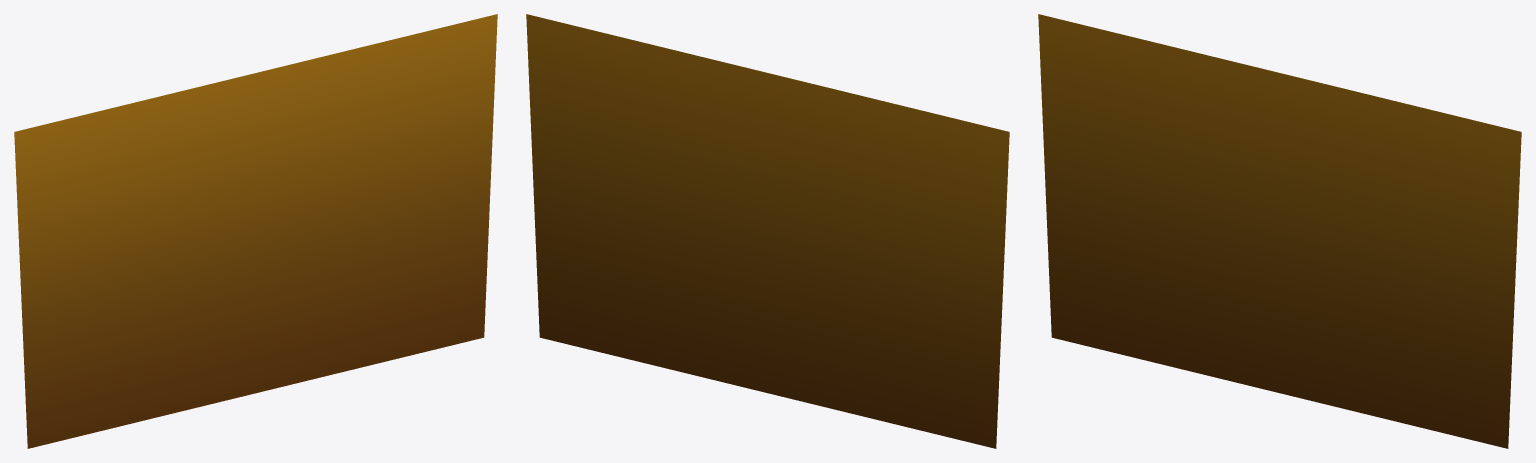
Rendered from Vesele ulice samo zid kuce 8. april.fbx.
3 renders of one model, left to right at view 1: azimuth 30°, elevation 25°; view 2: azimuth 150°, elevation 25°; view 3: azimuth 330°, elevation 25°, orthographic.
Visible parts, largest first — view 1: Samo_zid_kuce; view 2: Samo_zid_kuce; view 3: Samo_zid_kuce.
Boxes of the visible parts, x1,y1,x2,y2 form: Samo_zid_kuce: [14, 14, 497, 448]; Samo_zid_kuce: [526, 14, 1009, 448]; Samo_zid_kuce: [1038, 14, 1521, 448].
Bounding box in the file's own units: 2.15 × 1.36 × 1.14e-05.
1 material, 1 textured.
